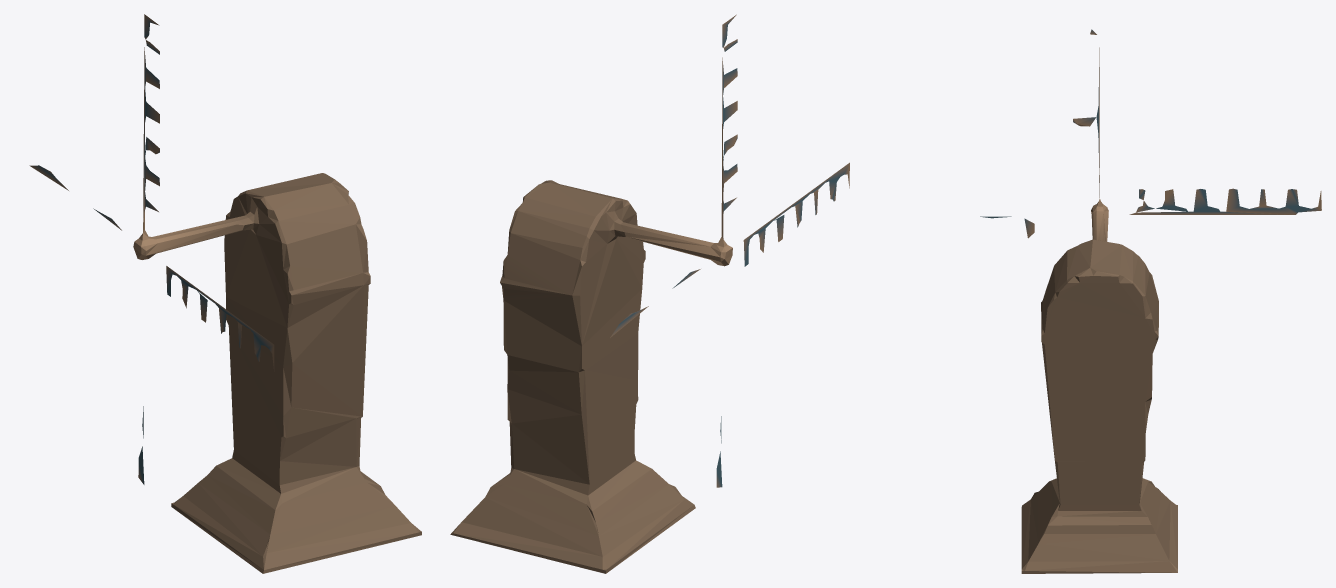
Rendered from Windmills.glb.
The picture shows the model from 3 angles, left to right: view 1: azimuth 30°, elevation 25°; view 2: azimuth 150°, elevation 25°; view 3: azimuth 270°, elevation 25°; orthographic projection. The views are drawn at different scales.
Parts seen in each view (by area): view 1: Root; view 2: Root; view 3: Root.
Boxes of the visible parts, x1,y1,x2,y2 form: Root: [29, 14, 421, 573]; Root: [450, 14, 849, 573]; Root: [980, 29, 1321, 573].
Bounding box in the file's own units: 7.65 × 16.76 × 14.44.
